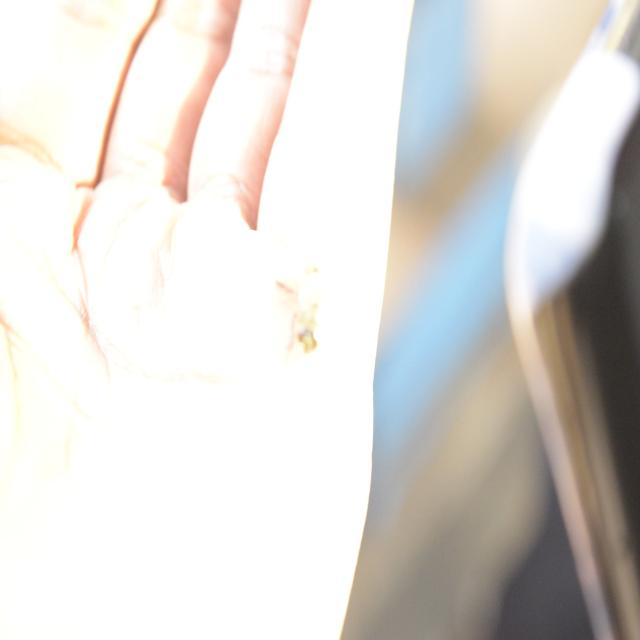honeybee: (268, 276, 325, 360)
